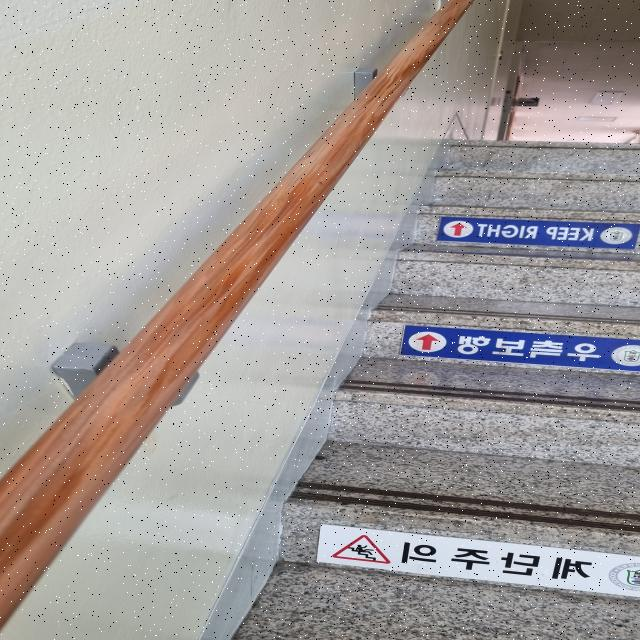logo: (605, 562, 639, 592), (606, 344, 640, 368), (597, 226, 634, 246)
